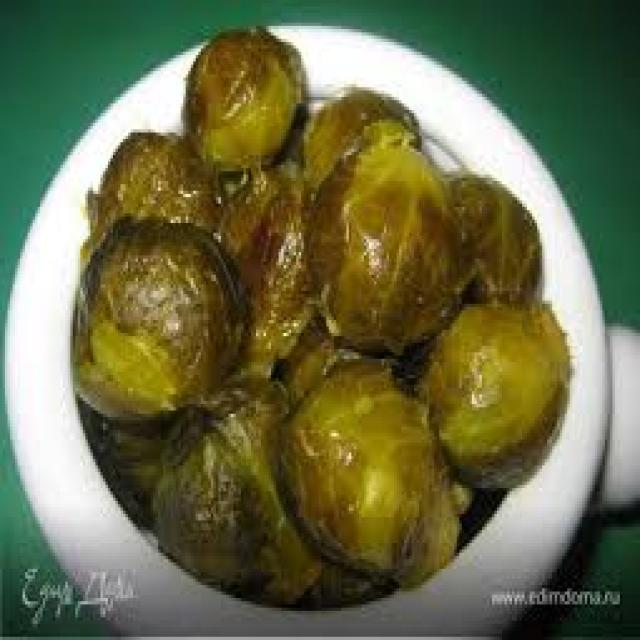choux de bruxelles: (53, 41, 557, 597)
